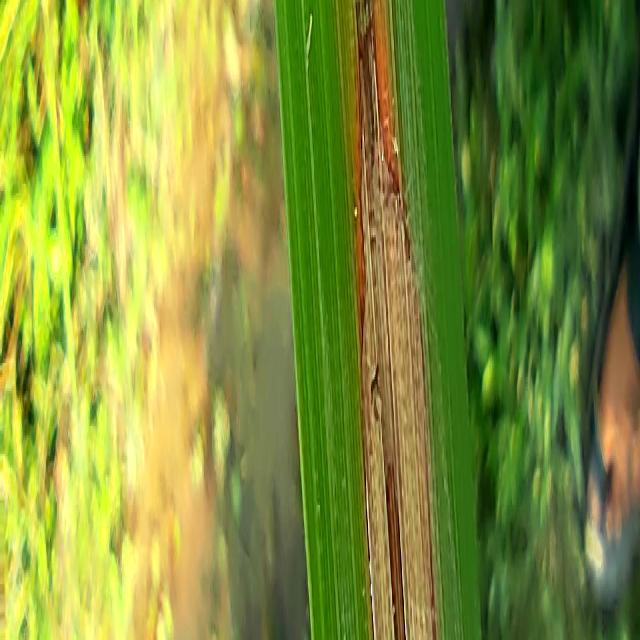LEAF BLAST: (358, 0, 436, 640)
